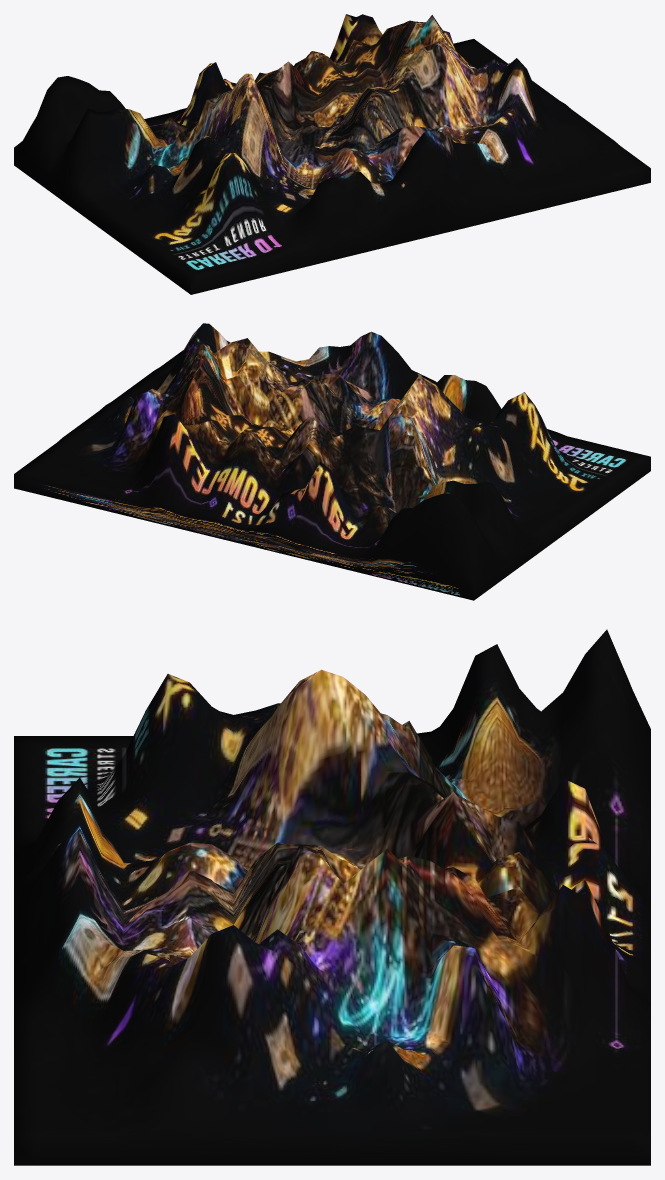
File: CAREER_01_VFX_05_Profit_Burst.glb
3 renders of one model, top to bottom at view 1: azimuth 30°, elevation 25°; view 2: azimuth 150°, elevation 25°; view 3: azimuth 270°, elevation 25°, orthographic. The views are drawn at different scales.
Parts seen in each view (by area): view 1: CAREER_01_VFX_05_Profit_Burst; view 2: CAREER_01_VFX_05_Profit_Burst; view 3: CAREER_01_VFX_05_Profit_Burst.
Boxes of the visible parts, x1,y1,x2,y2 form: CAREER_01_VFX_05_Profit_Burst: (14,14,650,294); CAREER_01_VFX_05_Profit_Burst: (14,323,650,600); CAREER_01_VFX_05_Profit_Burst: (14,629,650,1165).
Size of the model in its own units: 2 by 0.51 by 1.33.
Materials: 1 (1 with a texture image).
